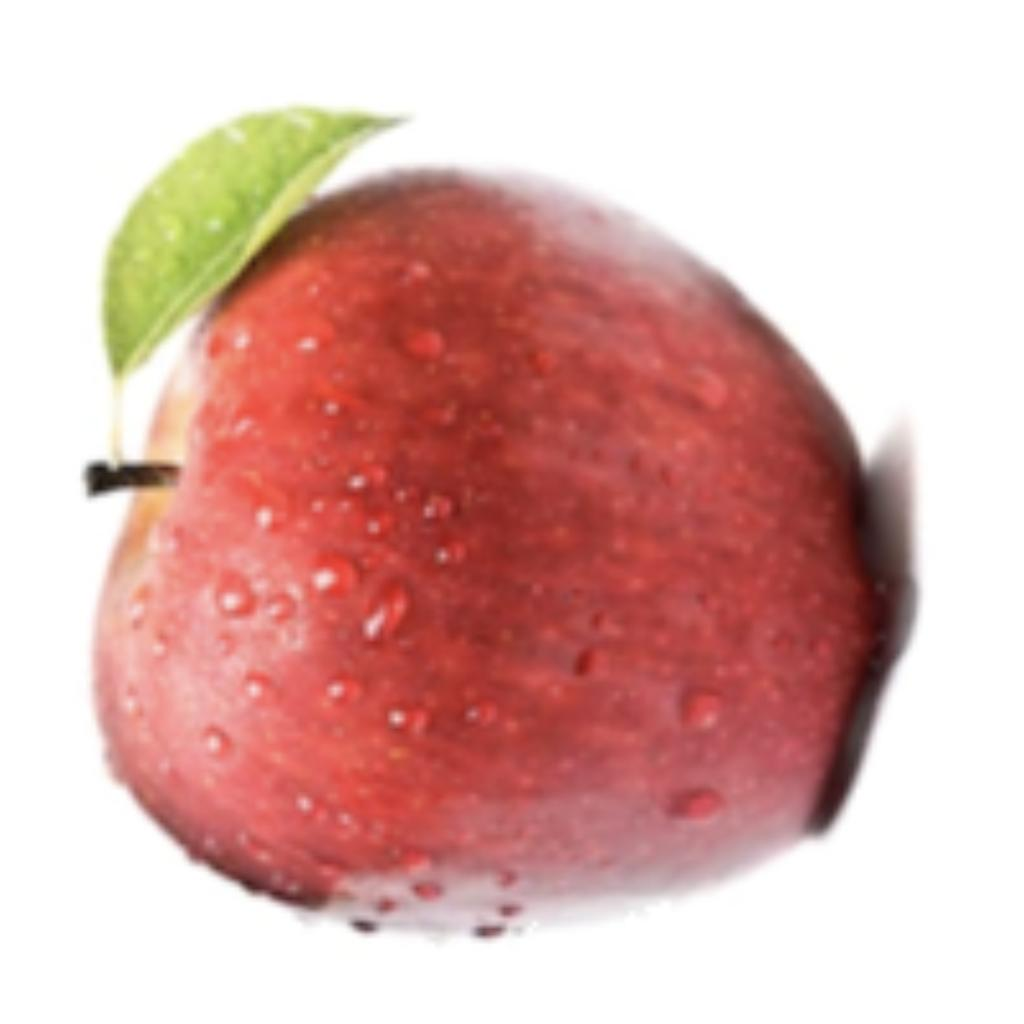apple: (77, 97, 927, 947)
